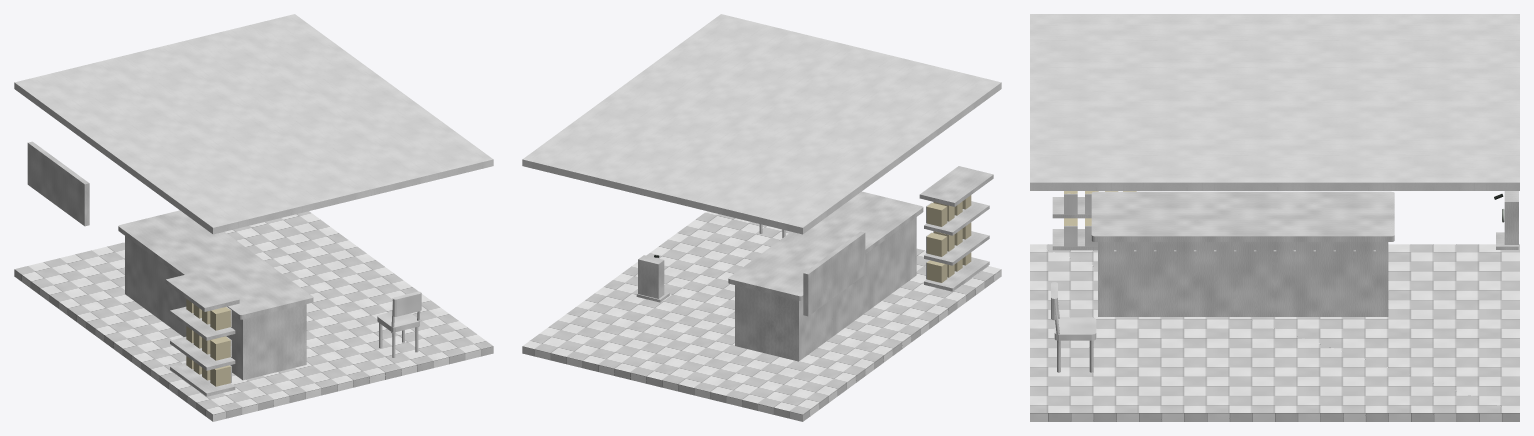
File: SM_Town_Motel_Office.glb
The picture shows the model from 3 angles, left to right: view 1: azimuth 30°, elevation 25°; view 2: azimuth 150°, elevation 25°; view 3: azimuth 270°, elevation 25°; orthographic projection. The views are drawn at different scales.
Parts seen in each view (by area): view 1: SM_Town_Motel_Office; view 2: SM_Town_Motel_Office; view 3: SM_Town_Motel_Office.
Part boxes in pixels (x1,y1,x2,y2): SM_Town_Motel_Office: (14,14,493,421); SM_Town_Motel_Office: (522,14,1001,421); SM_Town_Motel_Office: (1030,14,1519,421).
Size of the model in its own units: 4.4 by 2.91 by 5.4.
Materials: 9 (6 with a texture image).
